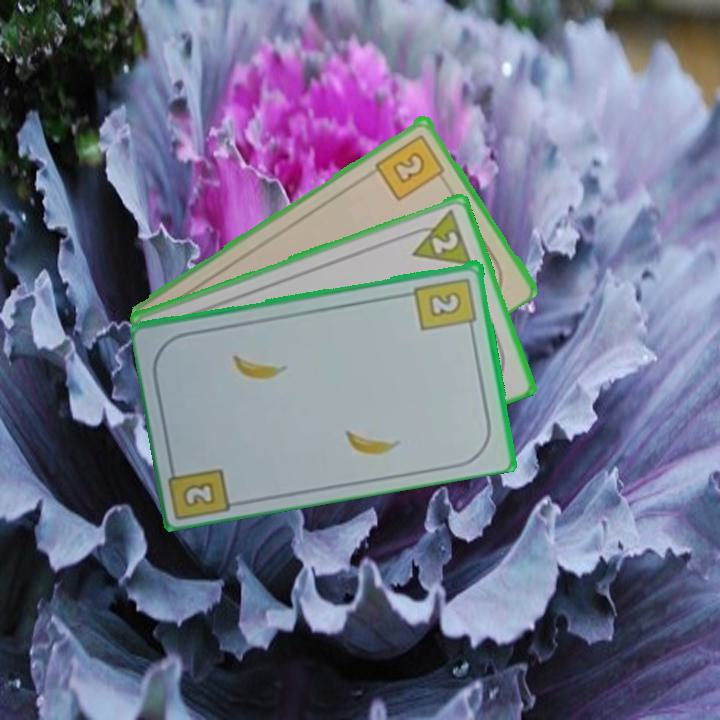2b: (372, 130, 450, 203), (411, 273, 479, 335), (179, 478, 219, 510)
2p: (402, 205, 475, 268)
